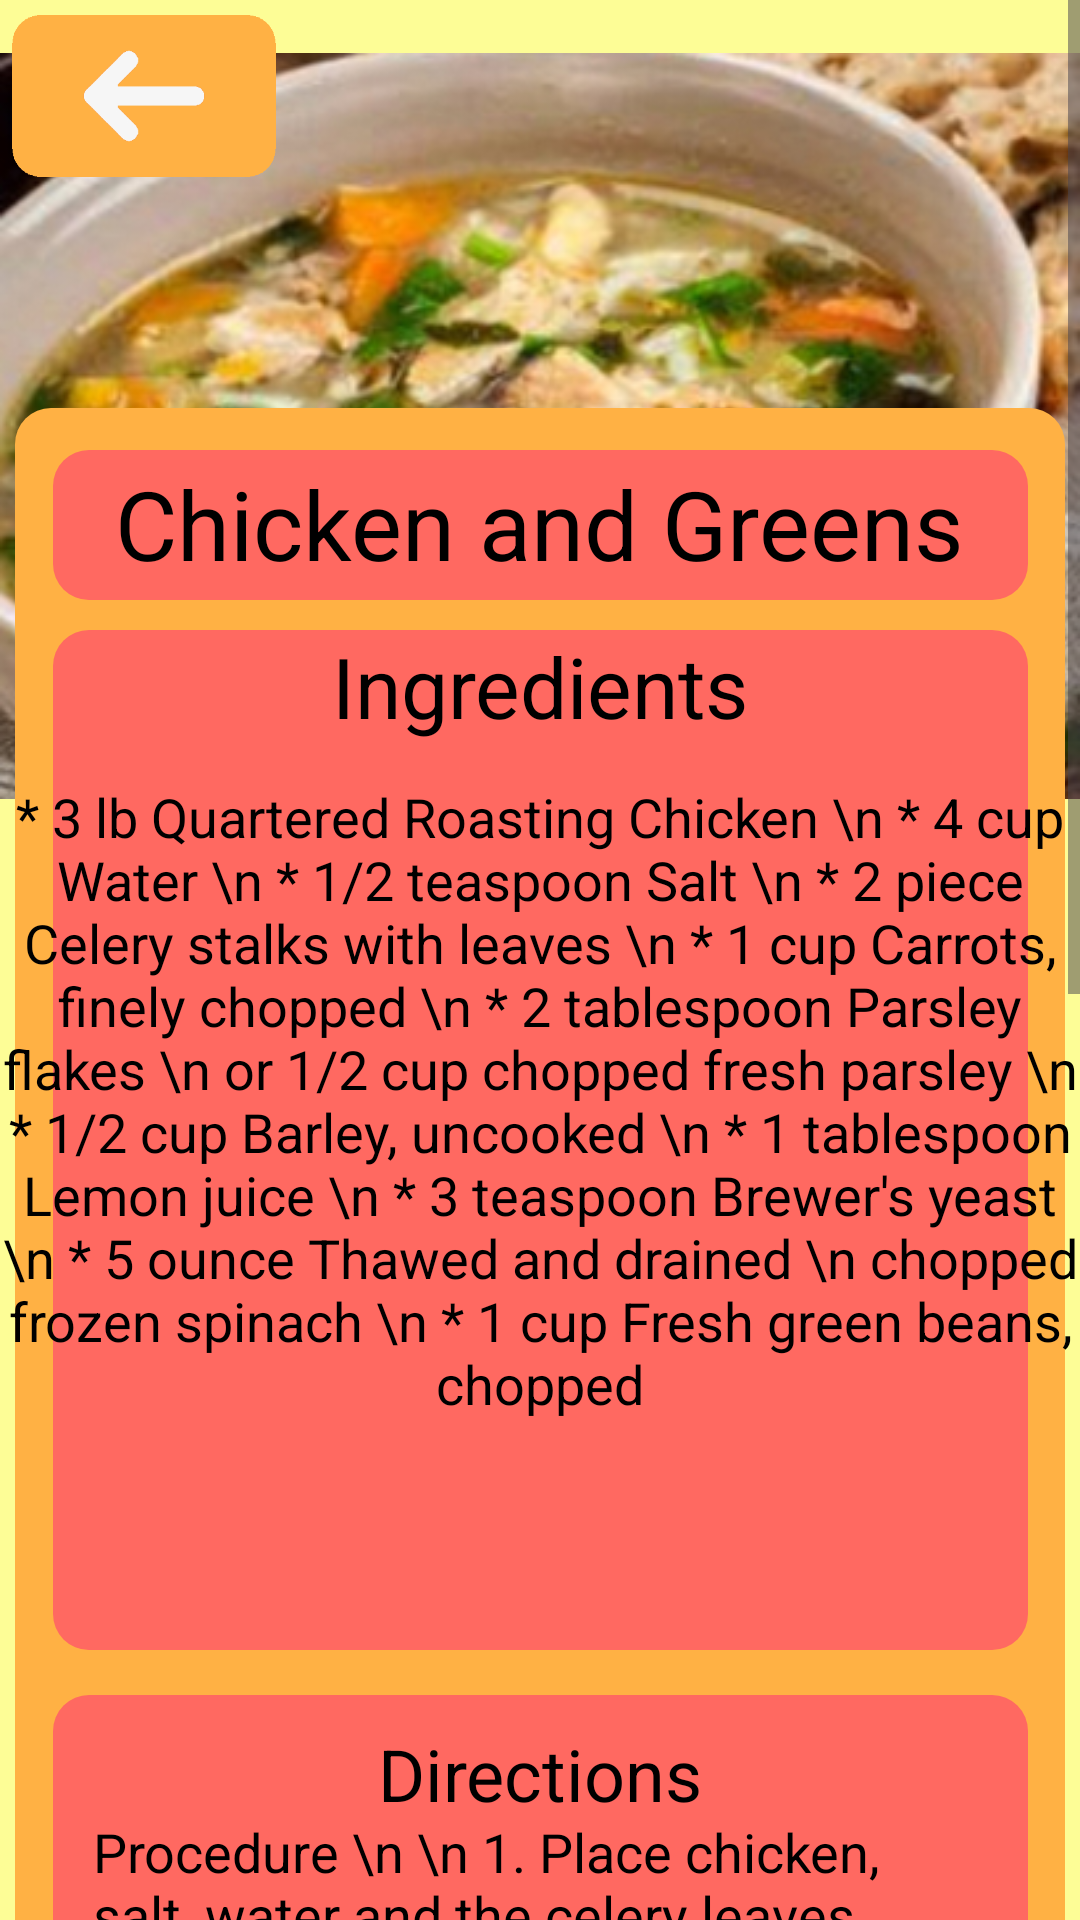

Named icons in this screenshot (1080w x 1920h) and their centers, (x,y):
backred: (144,96)
